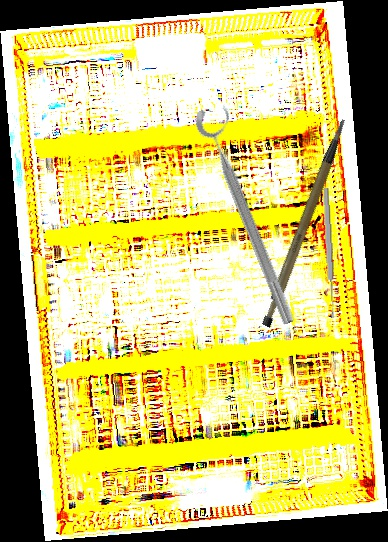Fixation Ring: (191, 100, 313, 328)
Scalpel Handle: (234, 118, 380, 330)
Surgical Spoon: (321, 187, 337, 319)
